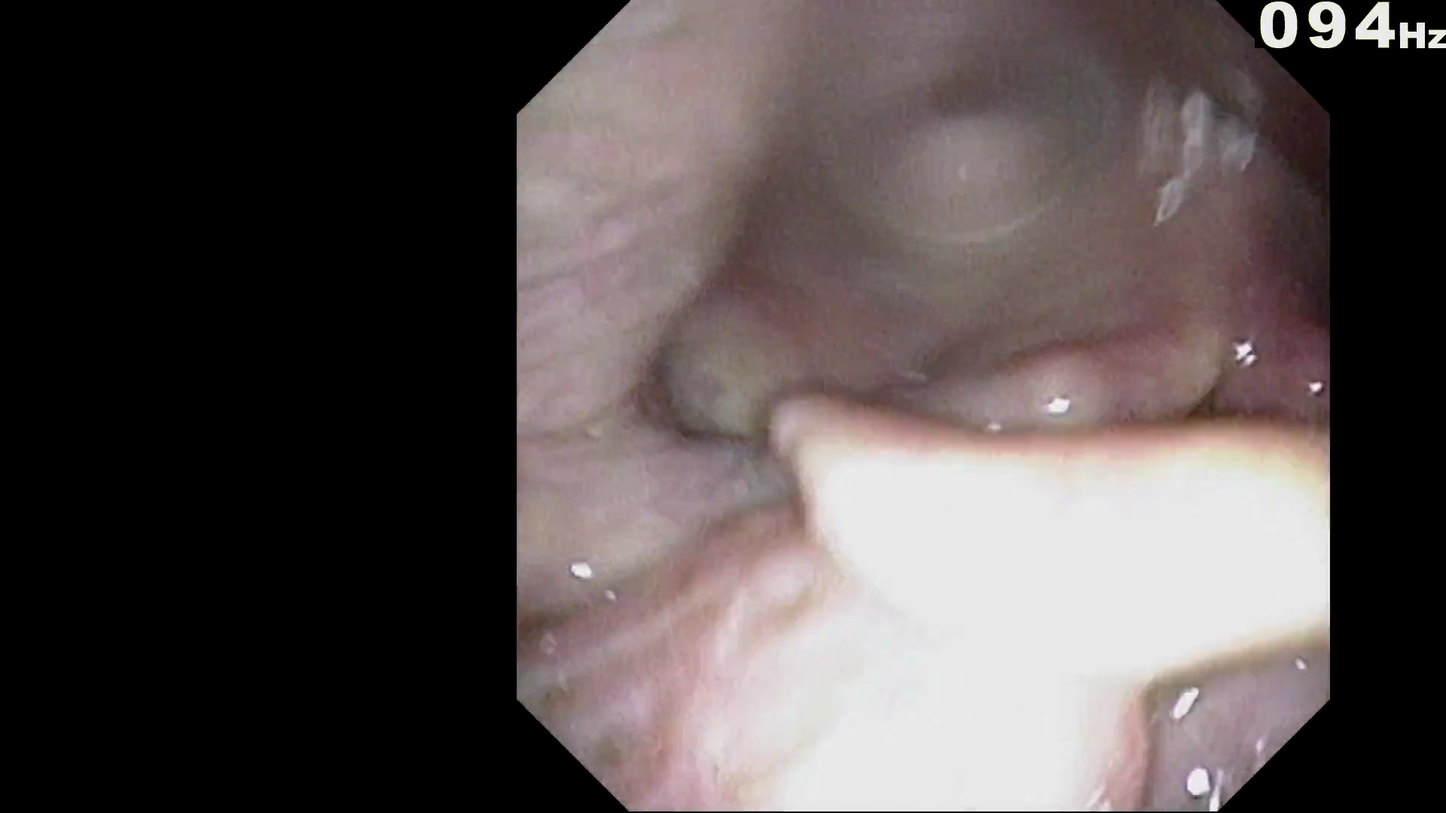epiglottis: (812, 444, 1305, 668)
trachea: (1078, 395, 1180, 480)
